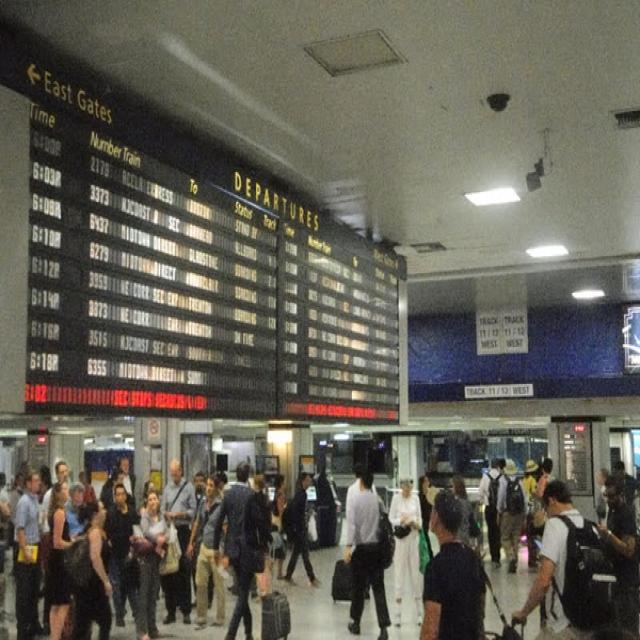body: (511, 479, 602, 637), (416, 484, 493, 638), (210, 456, 270, 638), (342, 468, 390, 640), (184, 474, 230, 632), (65, 496, 116, 638), (157, 457, 198, 627), (388, 471, 430, 627), (592, 475, 637, 610), (102, 484, 142, 627), (40, 458, 72, 630), (46, 479, 80, 639), (280, 468, 323, 592), (13, 472, 44, 640), (134, 488, 168, 638), (492, 455, 528, 573), (476, 455, 508, 569), (66, 501, 92, 638), (68, 454, 119, 523), (0, 461, 27, 586), (610, 457, 639, 553), (189, 471, 209, 610), (448, 474, 481, 554), (269, 471, 289, 589), (344, 459, 378, 516), (317, 468, 341, 545), (99, 466, 136, 515), (416, 474, 436, 564), (32, 456, 55, 522), (109, 456, 136, 501), (594, 466, 611, 530), (519, 458, 540, 508), (533, 457, 557, 499), (34, 464, 55, 505), (246, 471, 271, 502), (211, 470, 235, 500), (494, 451, 510, 483), (140, 478, 158, 505)
